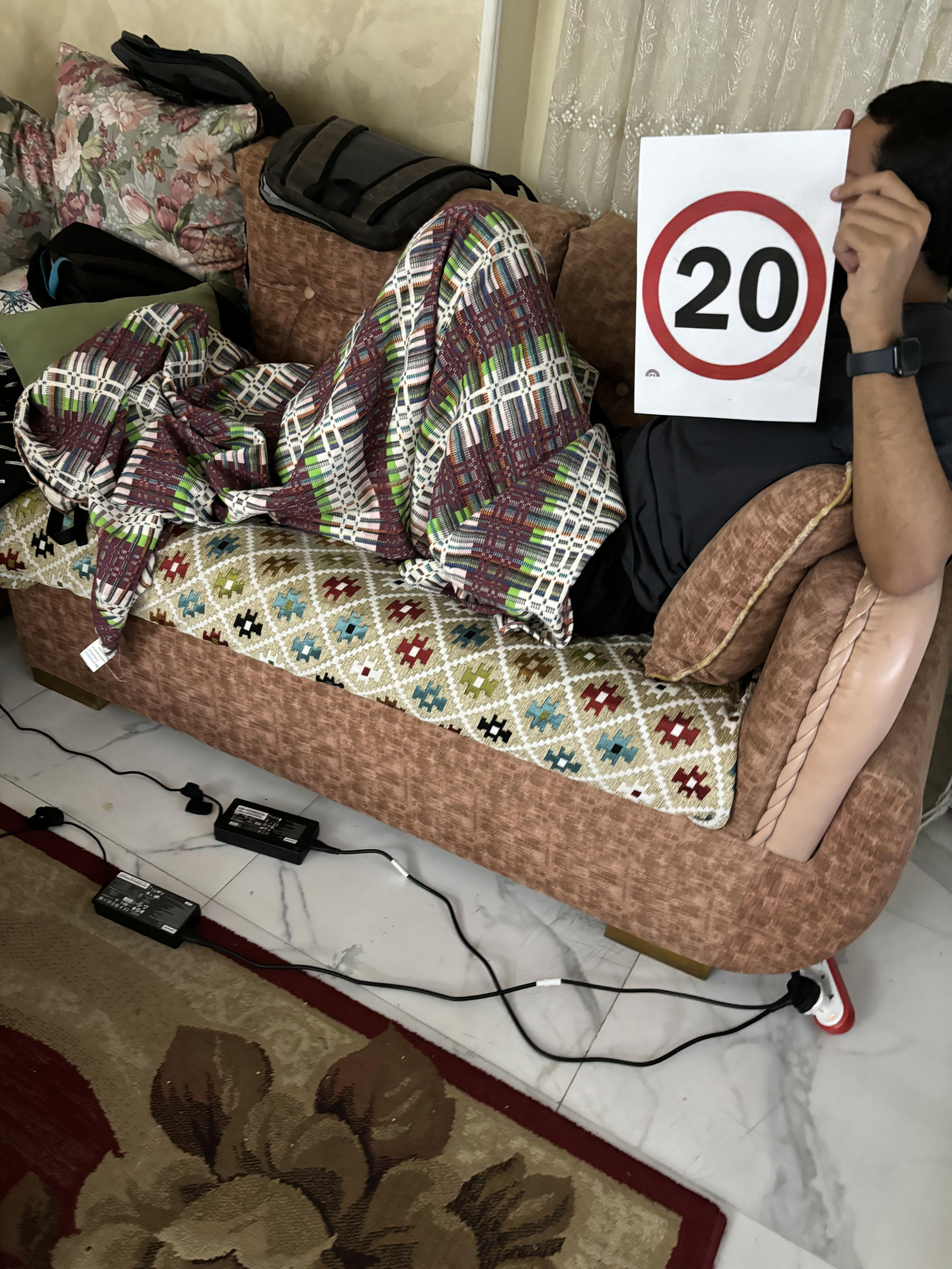20-Speed: (639, 180, 833, 385)
